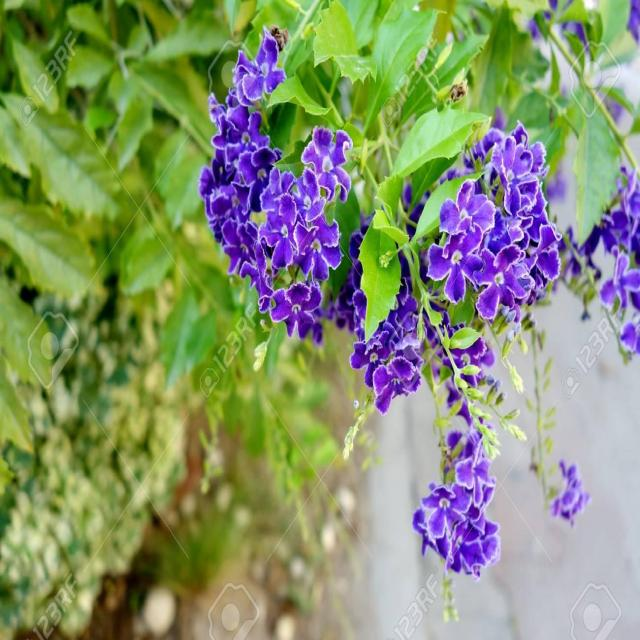organic waste: (351, 222, 508, 580), (205, 50, 349, 345), (428, 124, 564, 336)
